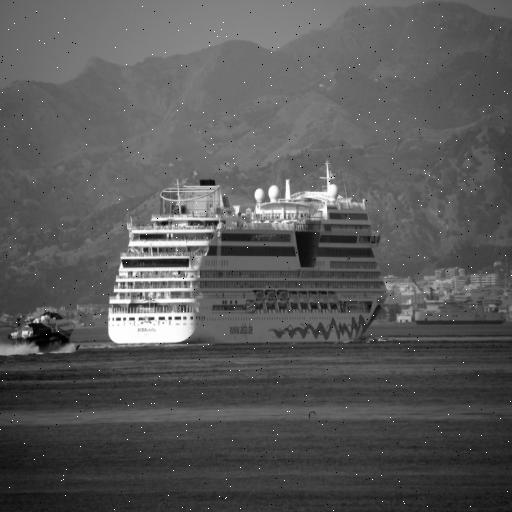cruises: (105, 162, 389, 351)
